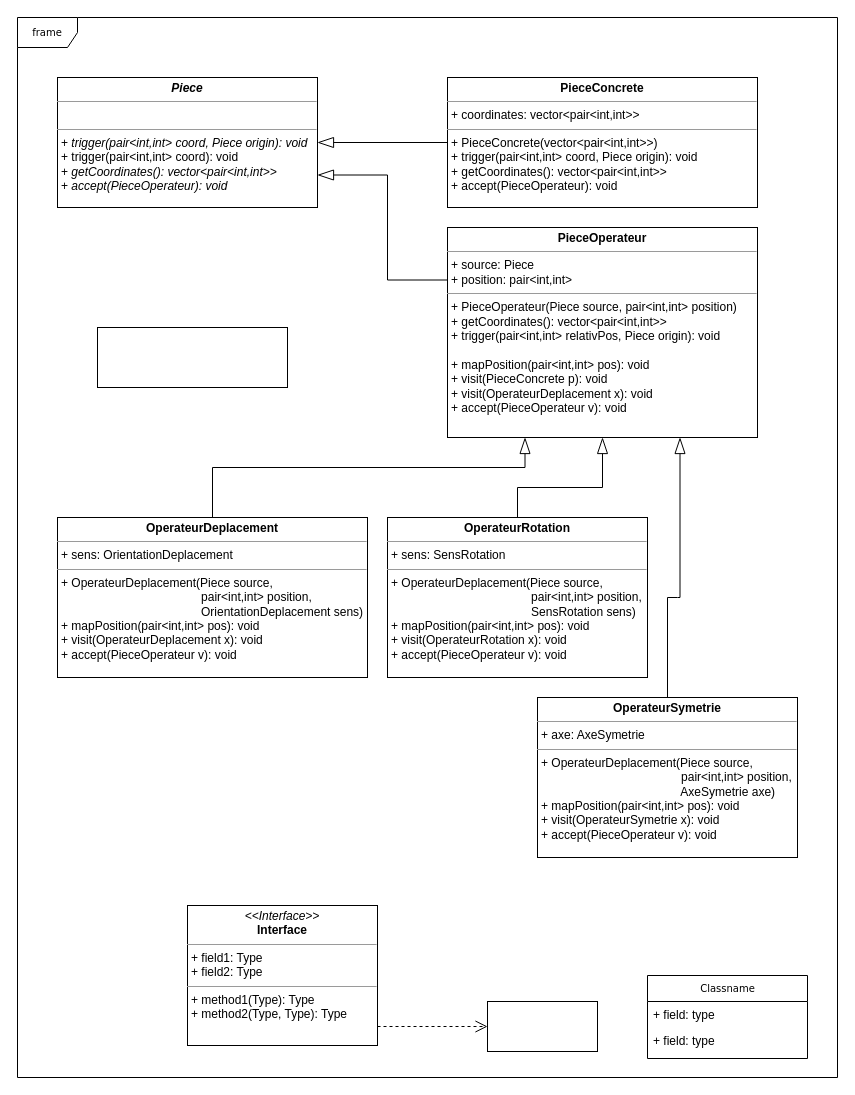
Some shapes in this 855 by 1095 pixel diagram are drawn without their labels. The centre of each missing label's shape, as x and y in pixels:
TODO: point (192, 357)
«interface» Name: point (542, 1026)
